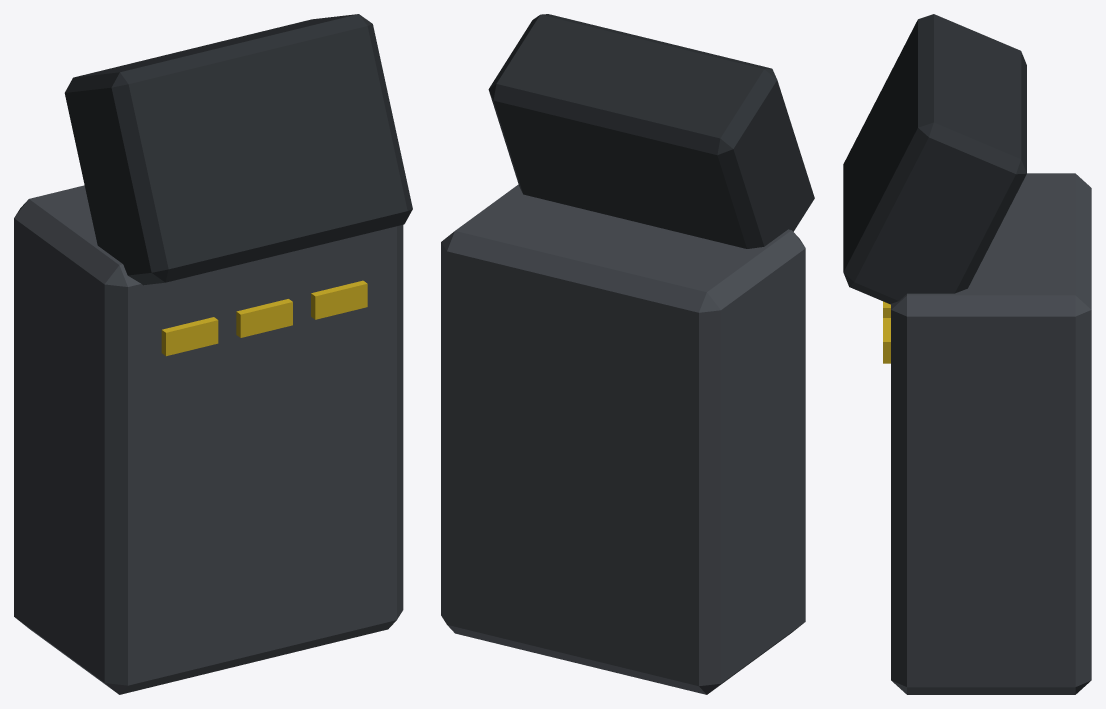
Rendered from env_terminal.glb.
3 views of the same model, side by side, from view 1: azimuth 30°, elevation 25°; view 2: azimuth 150°, elevation 25°; view 3: azimuth 270°, elevation 25° (orthographic). The views are drawn at different scales.
Parts seen in each view (by area): view 1: body; view 2: body; view 3: body.
Part boxes in pixels (x1,y1,x2,y2): body: [14, 14, 412, 694]; body: [441, 14, 814, 694]; body: [843, 14, 1091, 694].
Bounding box in the file's own units: 0.8 × 1.56 × 0.6189.
1 material, 1 textured.
